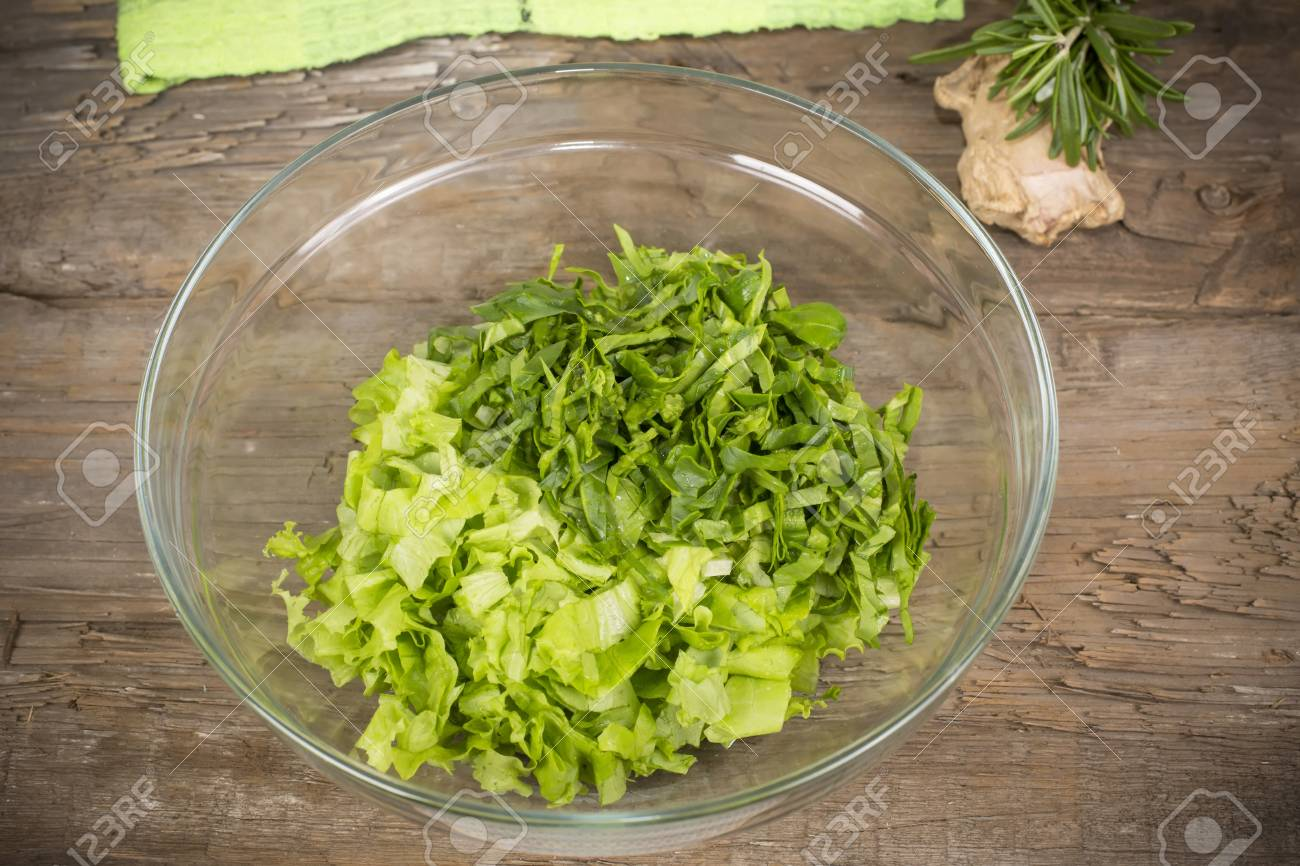chopped lettuce: (403, 333, 810, 693)
